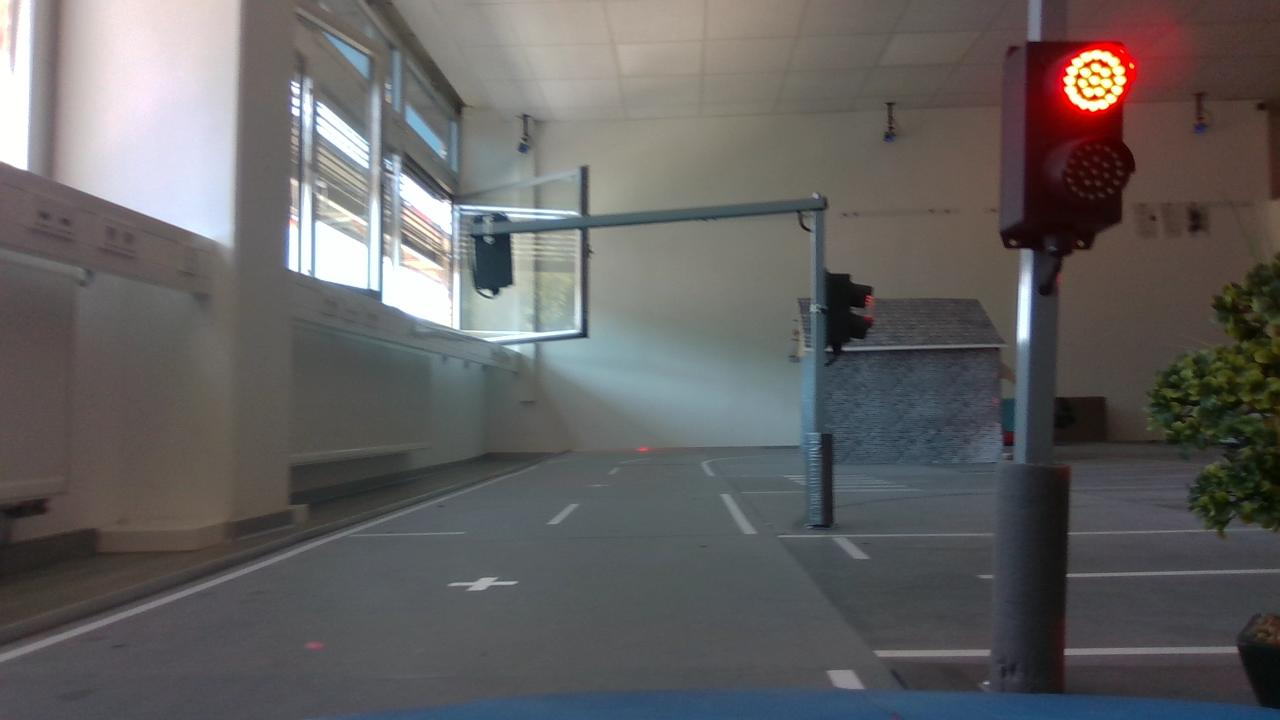traffic_light_red: (982, 25, 1150, 263)
